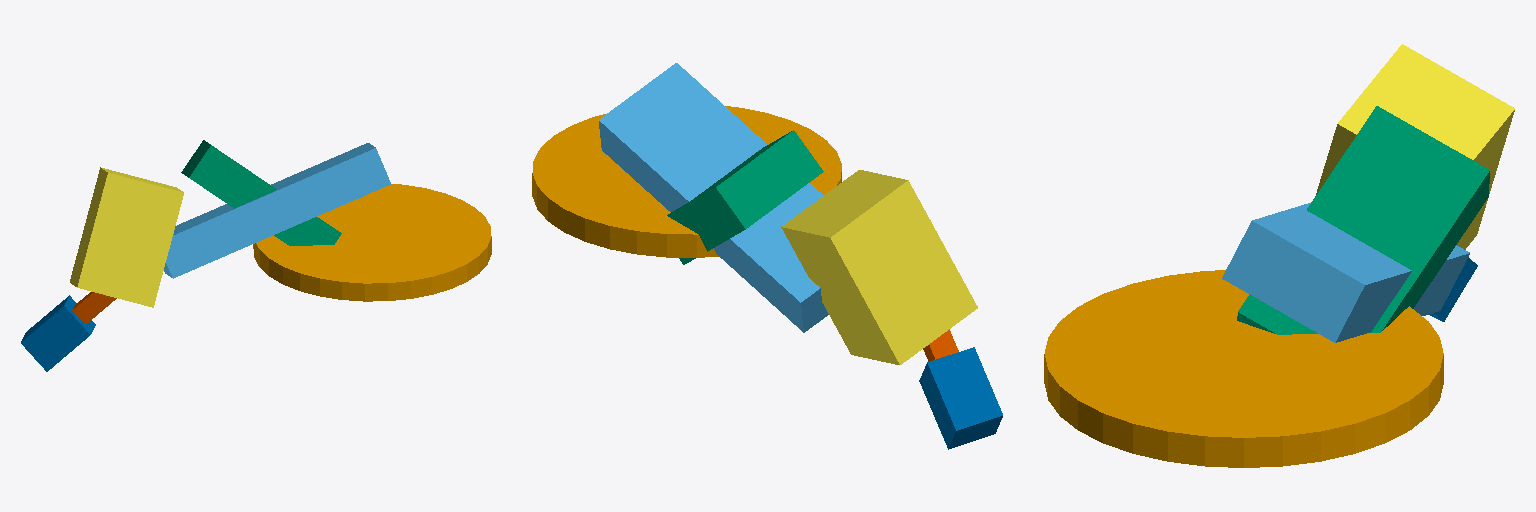
The robot description file, URDF, robot "procyon":
<?xml version="1.0"?>
<robot name="procyon">

  <link name="base_link">
    <origin xyz="-0.470715532388592 0.00817143616602599 -0.217249122899845" rpy="0 0 0" />
      <visual>
        <geometry>
          <cylinder length=".05" radius=".3"/>
        </geometry>
      </visual>
  </link>

  <joint name="base-plate" type="fixed">
    <parent link="base_link"/>
    <child link="lower_arm"/>
     <origin xyz="-0.20712 0.15338 0.074139" rpy="1.9612 0.3394 2.8578" />
  </joint>

  <link name="lower_arm">
    <origin xyz="0.13884061912792 0.0584236819656761 -0.022225004530128" rpy="0 0 0" />
    <visual>
      <geometry>
        <box size="0.6 0.1 0.2"/>
      </geometry>
    </visual>
  </link>

  <joint name="lowerupper_arm" type="revolute">
    <parent link="lower_arm"/>
    <child link="upper_arm"/>
    <origin xyz="0.0127 0.0254 0.0127" rpy="3.1416 1.2941E-15 2.5708" />
    <axis xyz="0 0 1"/>
    <limit effort="1000.0" lower="0.0" upper="0.4" velocity="0.25"/>
  </joint>

  <link name="upper_arm">
    <origin xyz="-0.157286210361564 0.144496495793153 0.0349249907336261" rpy="0 0 0" />
    <visual>
      <geometry>
        <box size="0.1 0.4 0.2"/>
      </geometry>
    </visual>
  </link>

  <joint name="upper-wrist" type="revolute">
    <parent link="upper_arm"/>
    <child link="wrist"/>
    <origin xyz="-0.26154 0.24093 0.0635" rpy="-3.1416 1.8319E-15 -1.2356" />
    <limit effort="100.0" lower="0.0" upper="0.4" velocity="0.25"/>
  </joint>

  <link name="wrist">
    <origin xyz="-0.0739953753431454 0.107500470601272 0.0285750052716065" rpy="0 0 0" />
    <visual>
      <geometry>
        <box size="0.2 0.3 0.2"/>
      </geometry>
    </visual>
  </link>

  <joint name="wrist-hand" type="revolute">
    <parent link="wrist"/>
    <child link="hand"/>
    <origin xyz="-0.10247 0.27897 0.022118" rpy="-1.4491E-14 -1.2593 -0.99779" />
    <limit effort="100.0" lower="0.0" upper="0.4" velocity="0.25"/>
  </joint>

  <link name="hand">
    <origin xyz="-0.157286210361564 0.144496495793153 0.0349249907336261" rpy="0 0 0" />
    <visual>
      <geometry>
        <box size="0.1 0.1 0.15"/>
      </geometry>
    </visual>
  </link>

  <joint name="hand-grip" type="prismatic">
    <parent link="hand"/>
    <child link="grip"/>
    <origin xyz="0 0 -0.08255" rpy="-1.1102E-15 0 2.1649E-15" />
    <limit effort="100.0" lower="0.0" upper="0.4" velocity="0.25"/>
  </joint>


  <link name="grip">
    <origin xyz="0.0190457064181672 0.0343360869456164 -0.0380957579667052" rpy="0 0 0" />
    <visual>
      <geometry>
        <box size="0.05 0.05 0.25"/>
      </geometry>
    </visual>
  </link>


  
</robot>

--- Render facts (derived) ---
Views: 3 orthographic renders of the robot side by side, from view 1: azimuth 30°, elevation 25°; view 2: azimuth 150°, elevation 25°; view 3: azimuth 270°, elevation 25°.
Model procyon with 6 links and 5 joints (3 revolute, 1 prismatic, 1 fixed), rooted at base_link, posed every joint at zero.
Links seen in each view (by area): view 1: base_link, wrist, lower_arm, upper_arm, hand, grip; view 2: wrist, lower_arm, base_link, upper_arm, hand, grip; view 3: base_link, upper_arm, lower_arm, wrist, hand.
Link boxes in pixels (bbox=[...]): base_link: bbox=[253, 184, 491, 301]; wrist: bbox=[70, 167, 183, 307]; lower_arm: bbox=[164, 143, 390, 278]; upper_arm: bbox=[181, 140, 341, 245]; hand: bbox=[21, 295, 95, 371]; grip: bbox=[72, 292, 116, 324]; wrist: bbox=[781, 170, 977, 364]; lower_arm: bbox=[599, 63, 828, 332]; base_link: bbox=[532, 106, 841, 257]; upper_arm: bbox=[667, 130, 823, 264]; hand: bbox=[919, 347, 1002, 449]; grip: bbox=[923, 329, 958, 361]; base_link: bbox=[1044, 270, 1443, 467]; upper_arm: bbox=[1237, 106, 1489, 334]; lower_arm: bbox=[1222, 203, 1469, 342]; wrist: bbox=[1315, 44, 1514, 249]; hand: bbox=[1429, 257, 1477, 321].
Size in the robot's own frame: 1.16 by 0.7079 by 0.5476 metres.
Geometry: primitives only (box / cylinder / sphere), no mesh files.